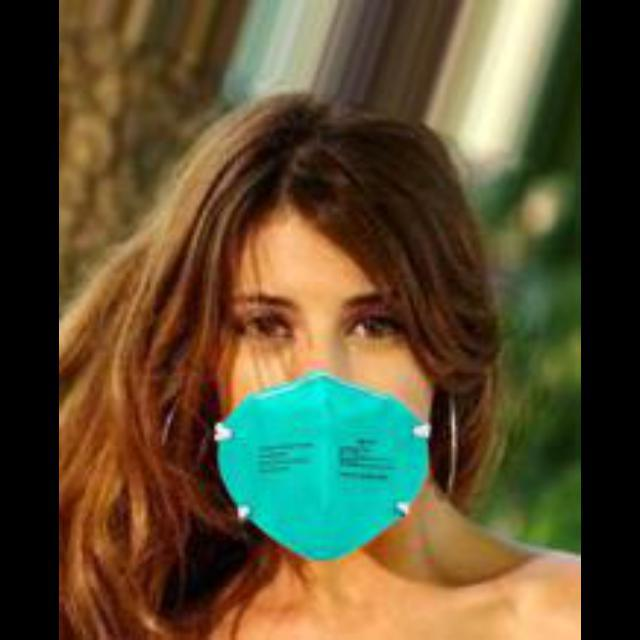suspicion: (164, 120, 530, 586)
